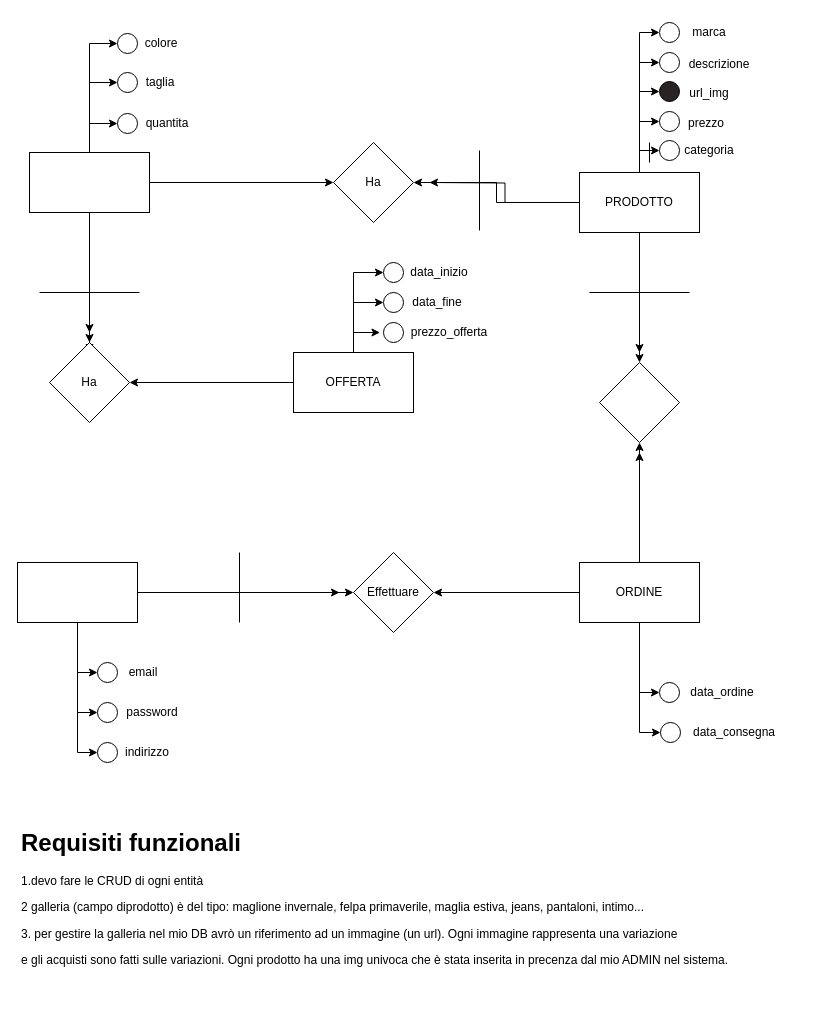
Image size: 817x1032. Some labels were removed from this diagram. The shapes that lost their labels are listed below. From the top down, each one's centre as x and y in pixels, then its label:
At point 89,182: "VARIAZIONE".
At point 639,402: "Riferisce".
At point 77,592: "UTENTE".
